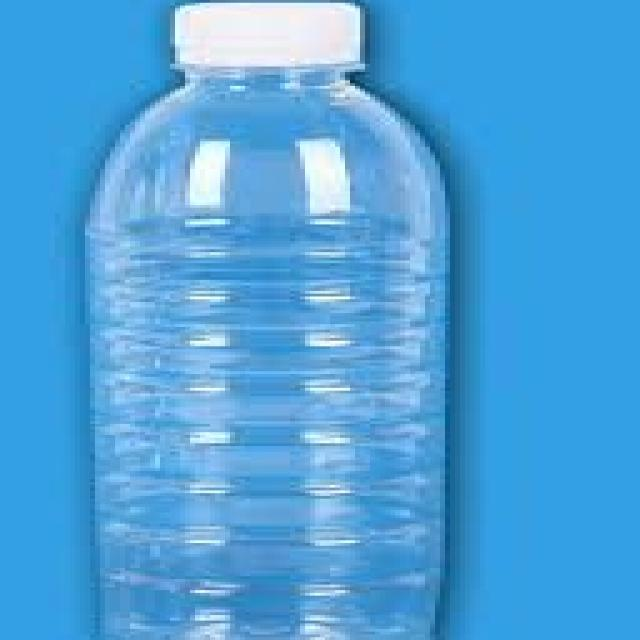organic: (83, 1, 458, 640)
